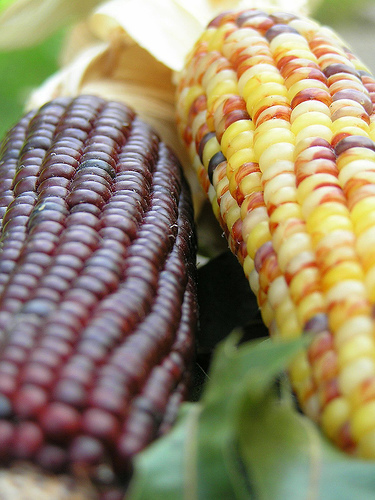corn: (176, 7, 373, 467), (0, 93, 205, 498)
